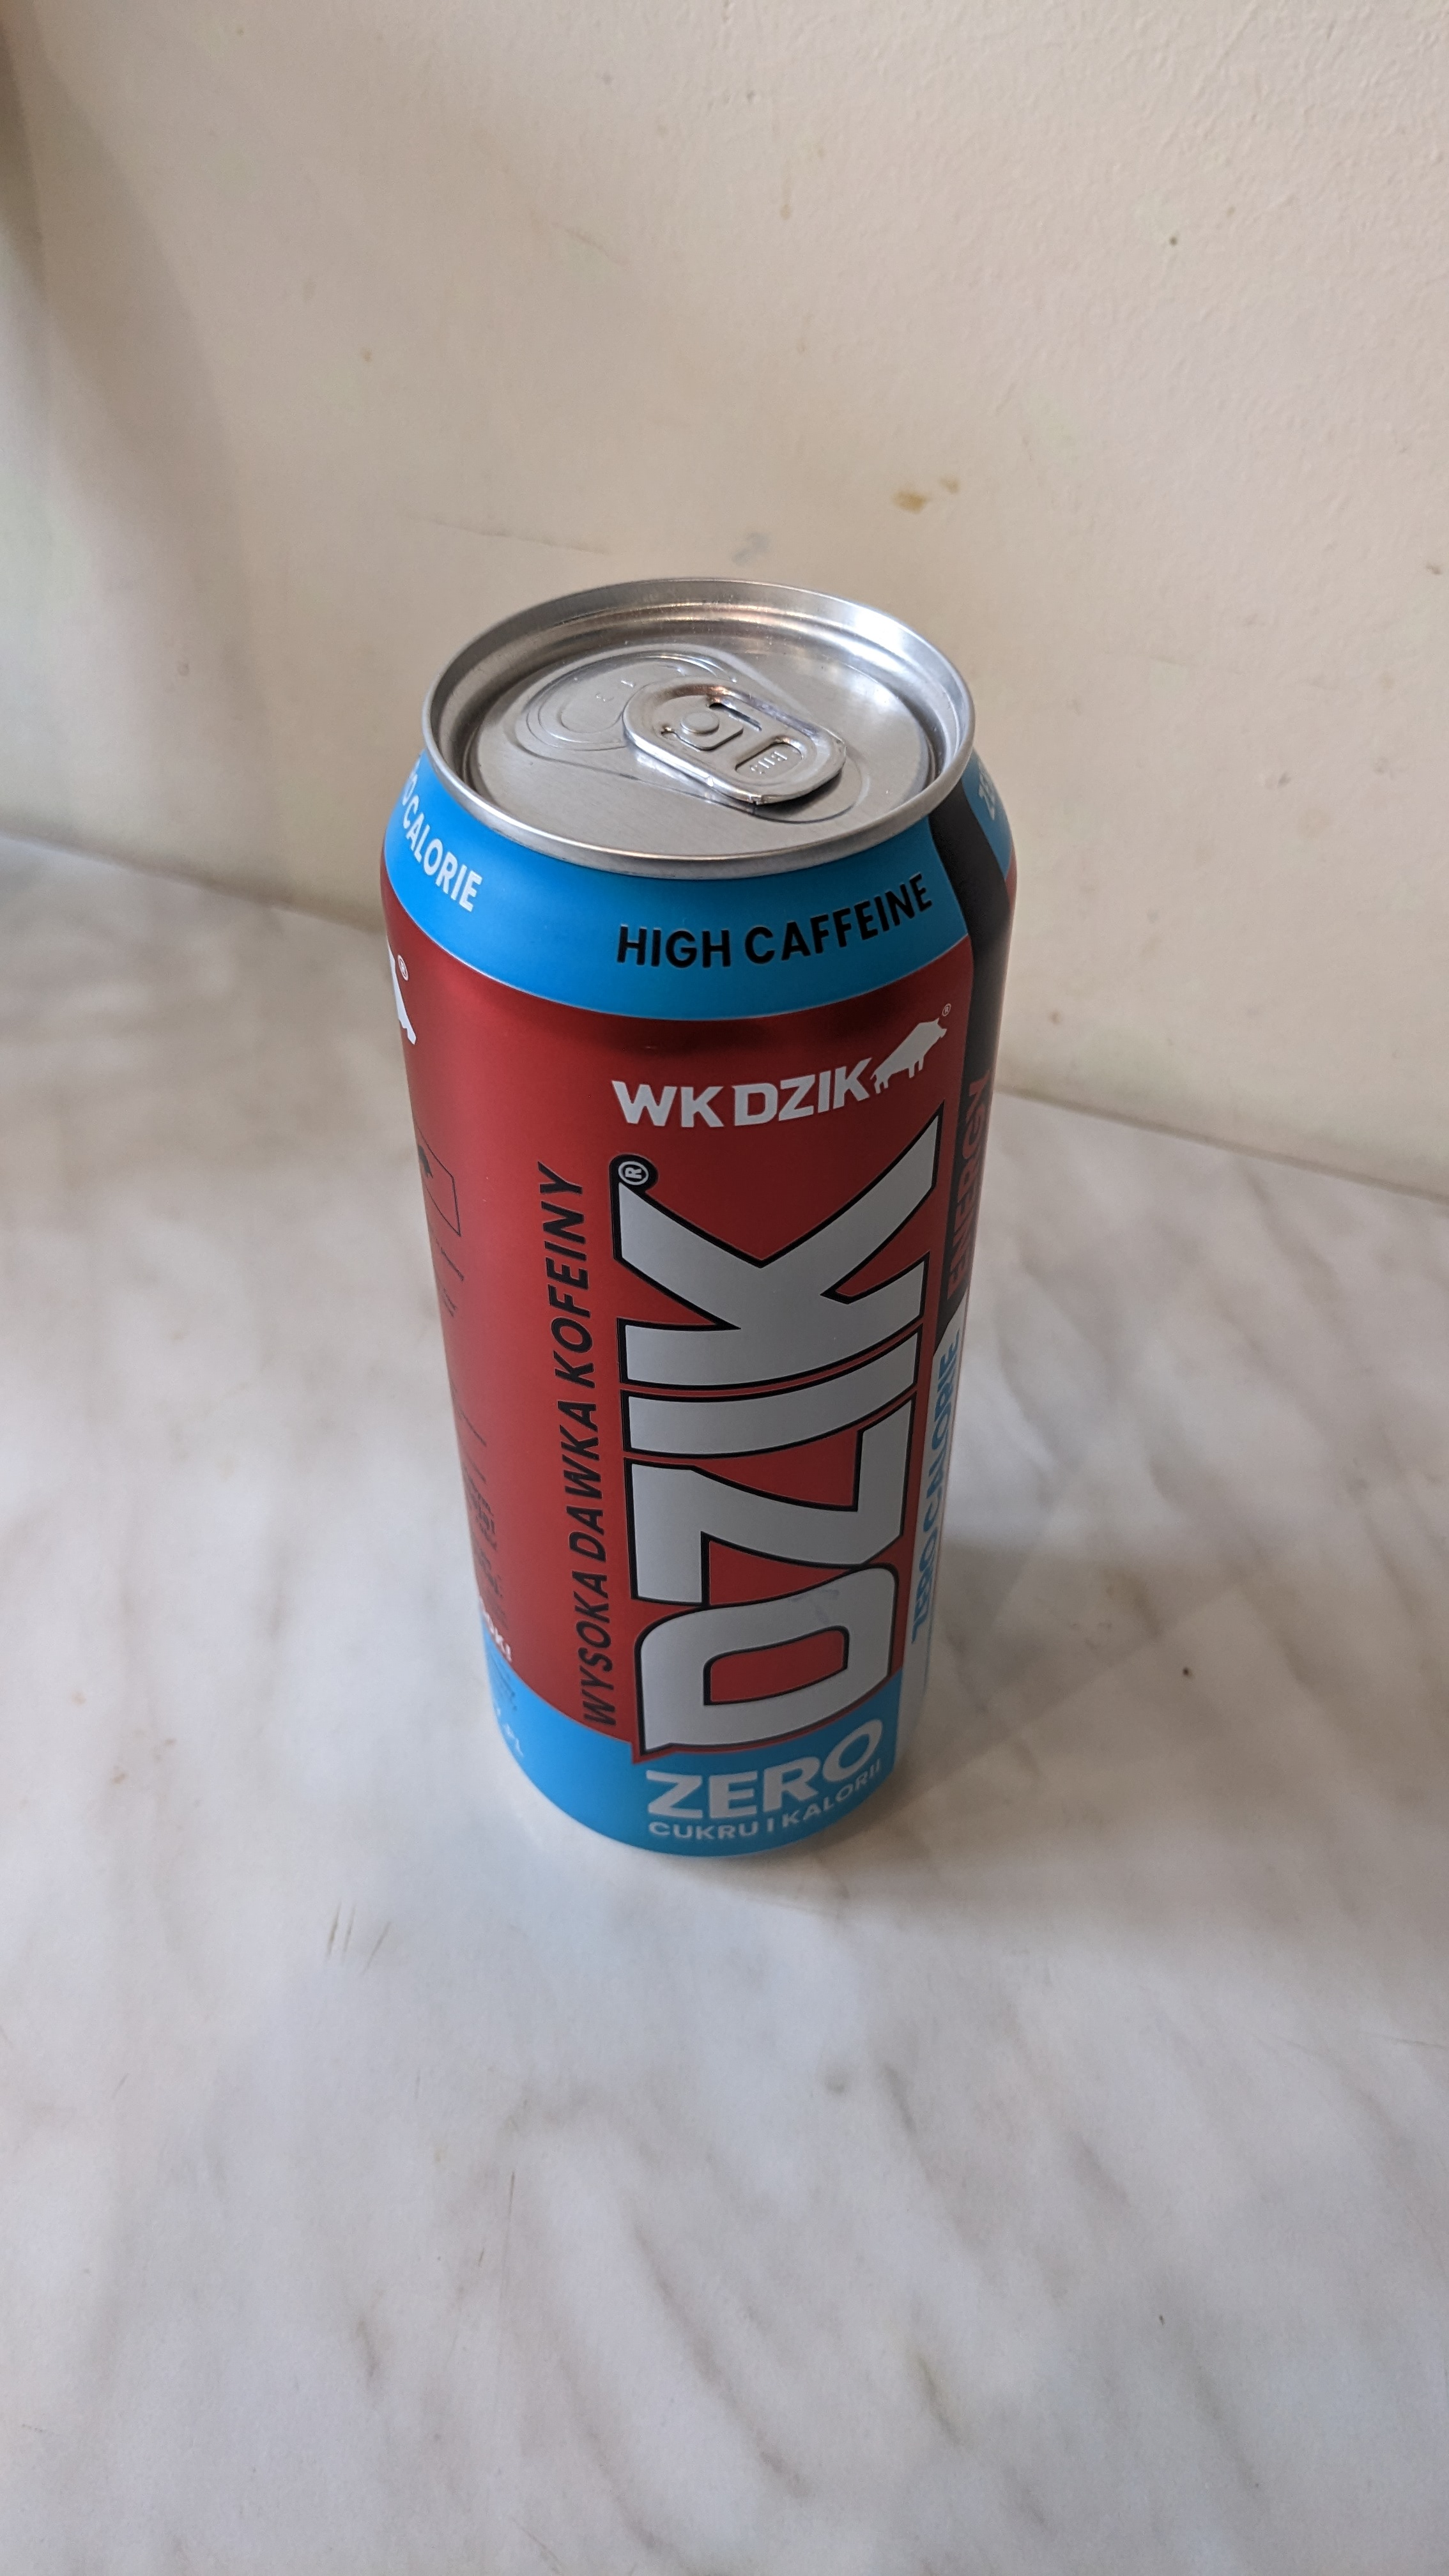dzik: (361, 570, 1026, 1923)
